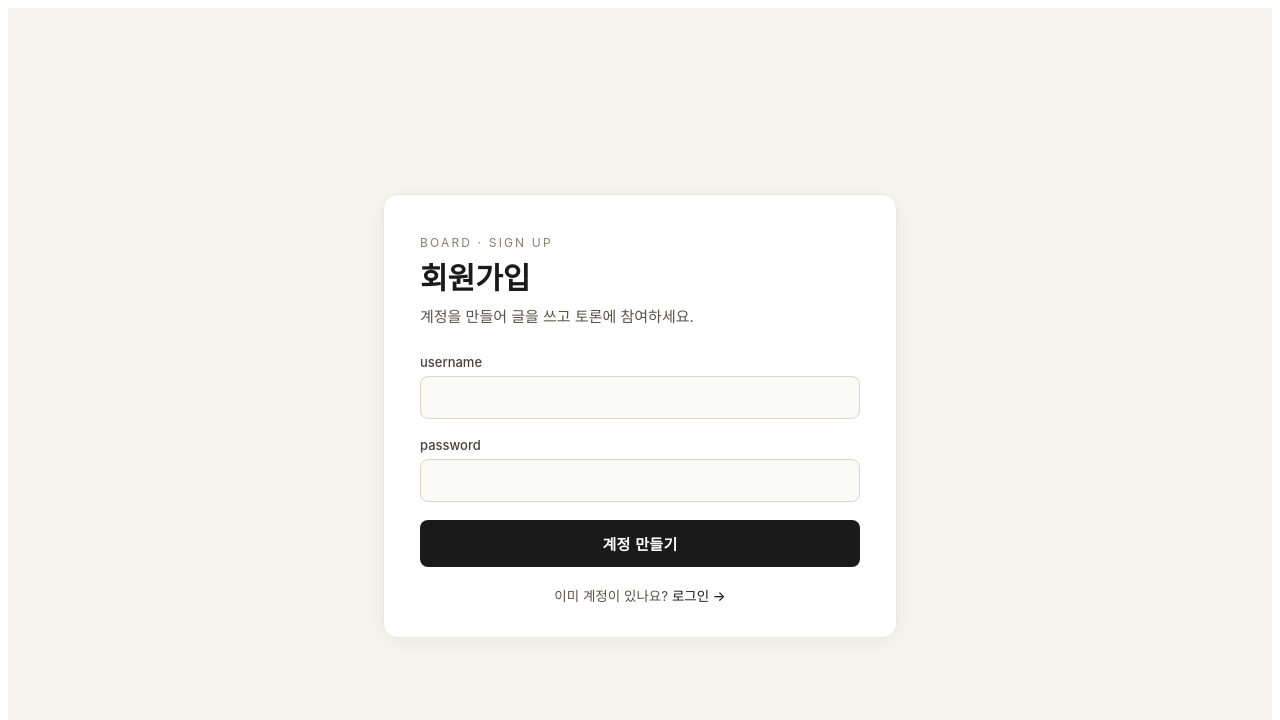
Test: SignupPage › 201_응답_시_가입_완료_메시지를_렌더한다
In the field labelled "username": (640, 397) [420,376,860,419], type "marco"
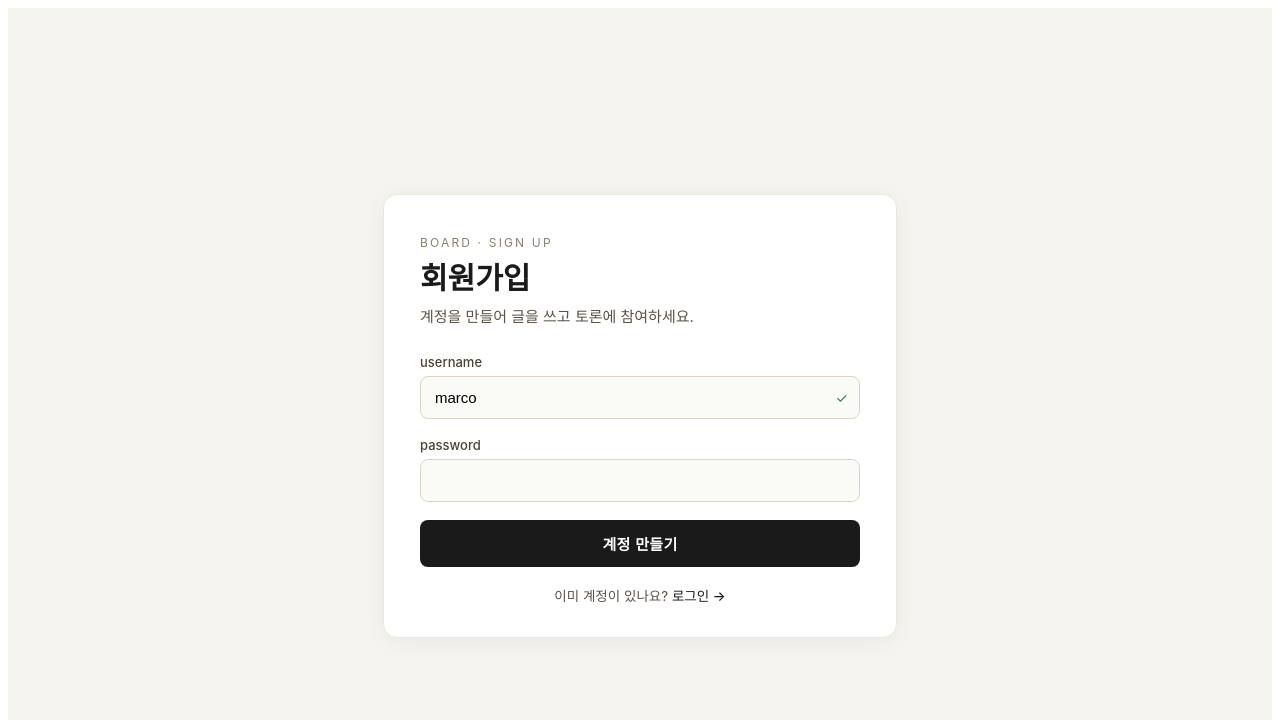
In the password field labelled "password": (640, 480) [420,459,860,502], type "pw12345"
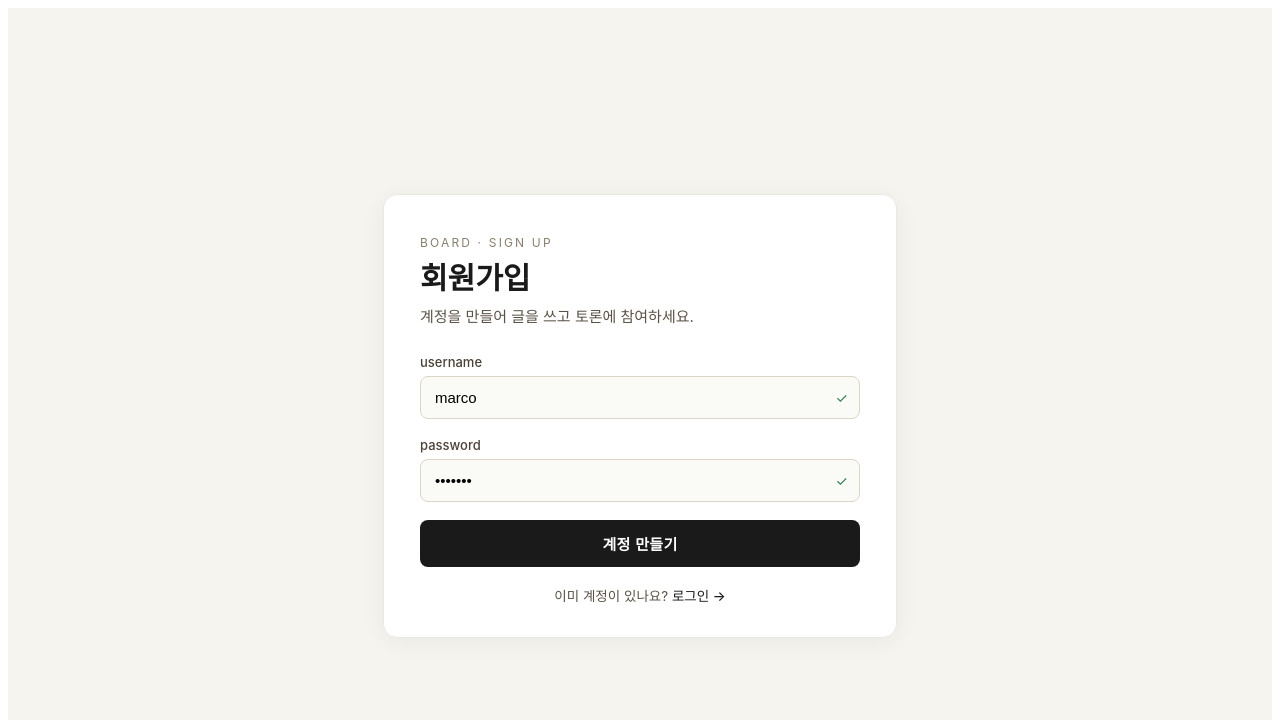
Click the button "계정 만들기": (640, 543) [420,520,860,567]
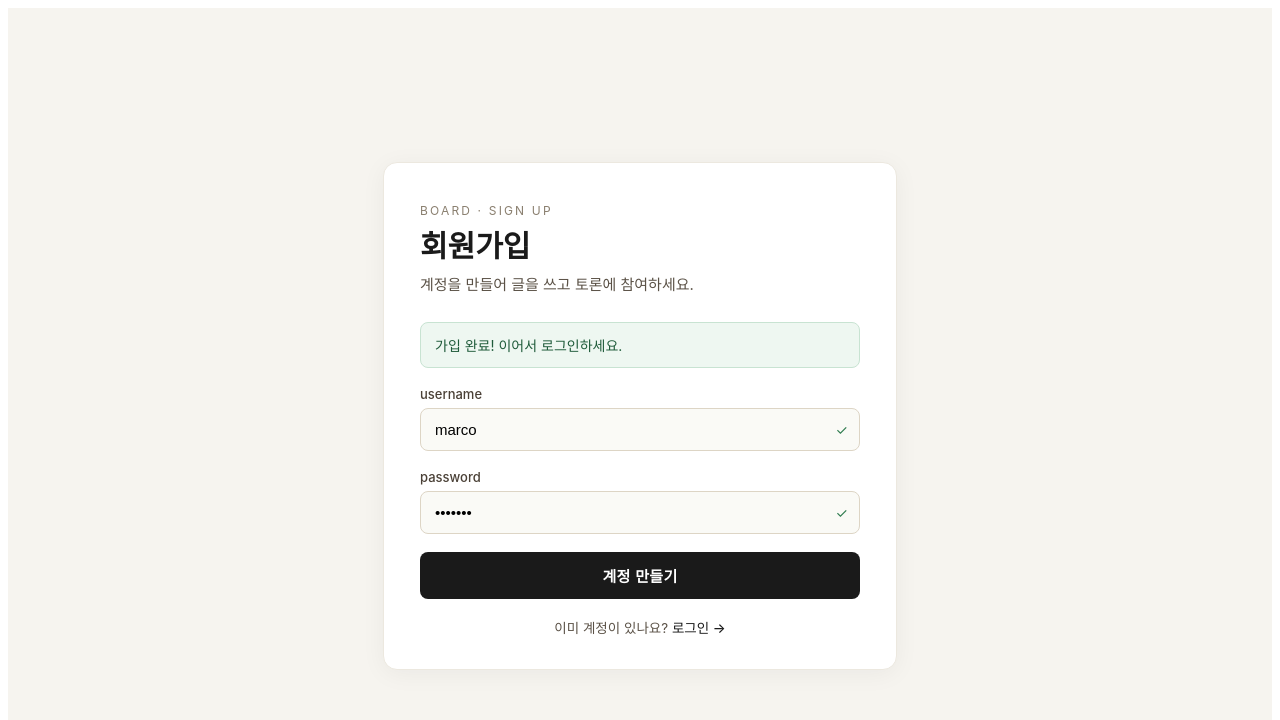
Result: the text "가입 완료! 이어서 로그인하세요." is shown at [420,322,860,368]
